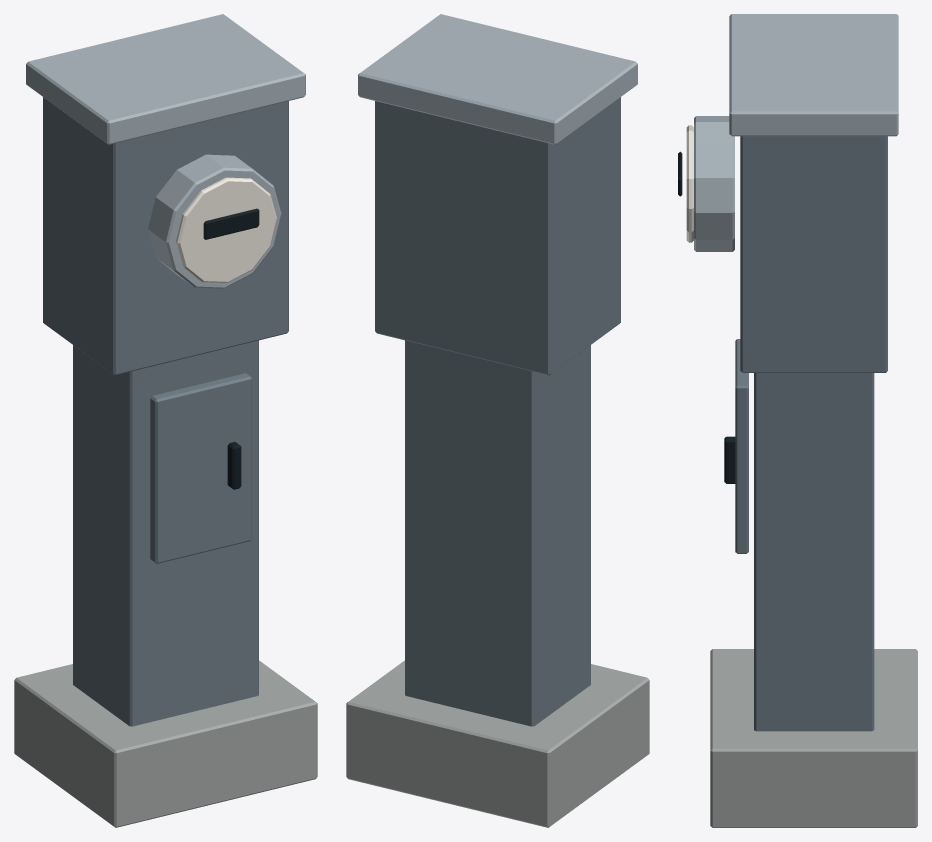
File: b05_utility_meter_pedestal.glb
3 renders of one model, left to right at view 1: azimuth 30°, elevation 25°; view 2: azimuth 150°, elevation 25°; view 3: azimuth 270°, elevation 25°, orthographic. The views are drawn at different scales.
Parts seen in each view (by area): view 1: b05_utility_meter_pedestal; view 2: b05_utility_meter_pedestal; view 3: b05_utility_meter_pedestal.
Boxes of the visible parts, box(x1,y1,x2,y2) form: b05_utility_meter_pedestal: box(14, 14, 317, 827); b05_utility_meter_pedestal: box(346, 14, 649, 827); b05_utility_meter_pedestal: box(678, 14, 917, 827).
Size of the model in its own units: 0.44 by 1.45 by 0.439.
